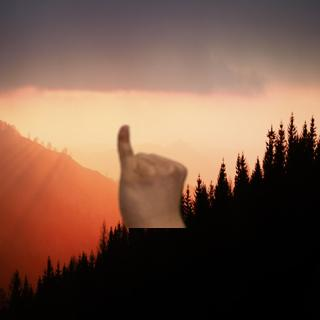FINE: (113, 123, 193, 225)
